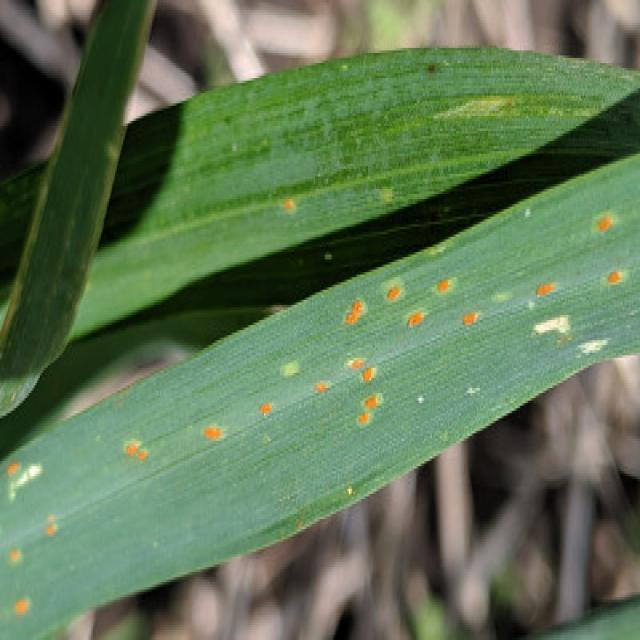wheat-stemrust: (106, 170, 639, 492)
